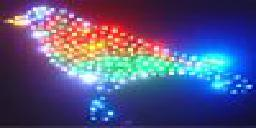LED: (19, 7, 171, 84)
